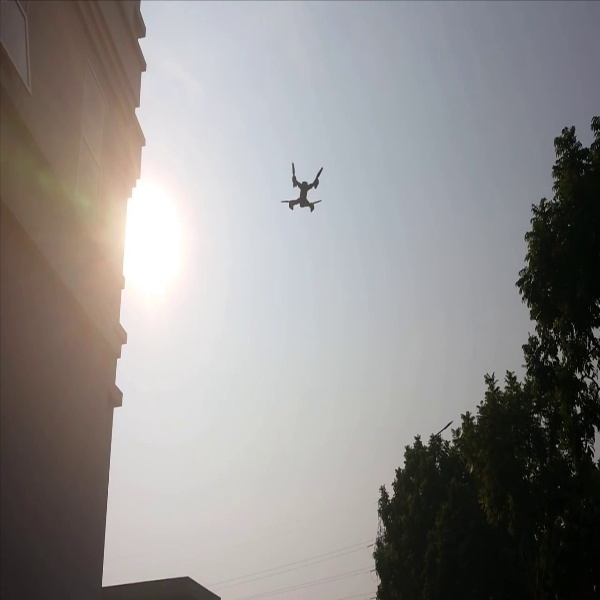drone: (277, 153, 329, 221)
